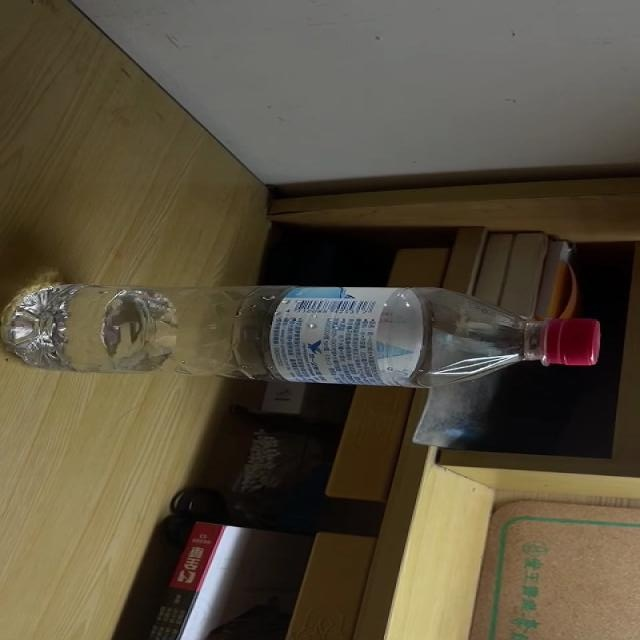Water: (1, 287, 602, 387)
